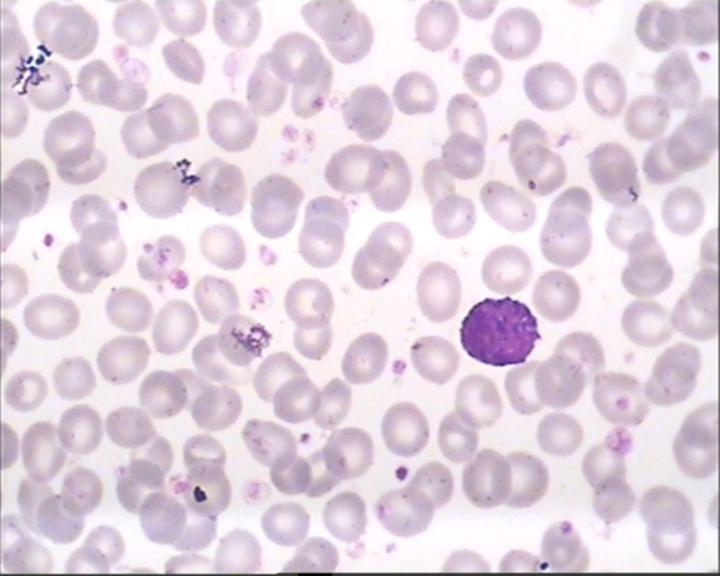baso: (455, 290, 546, 370)
